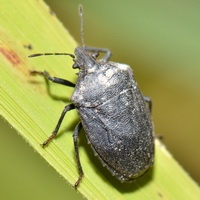insect: (28, 6, 153, 187)
